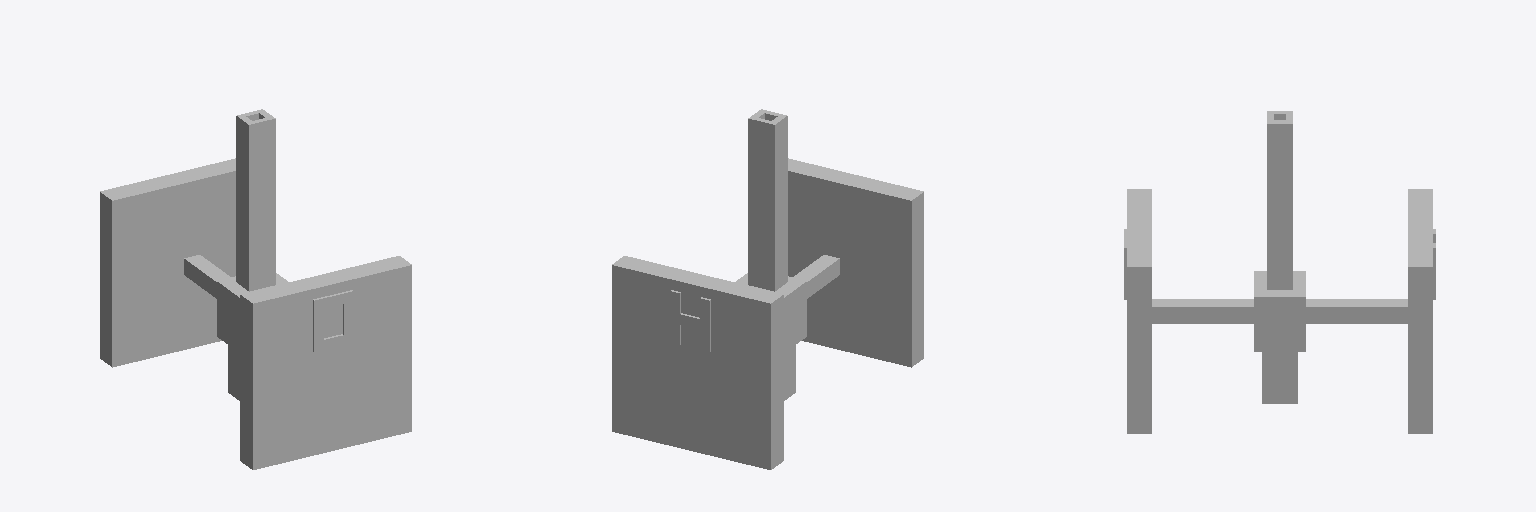
Rendered from fuel_cell.obj.
3 views of the same model, side by side, from view 1: azimuth 30°, elevation 25°; view 2: azimuth 150°, elevation 25°; view 3: azimuth 270°, elevation 25° (orthographic).
Visible parts, largest first — view 1: Cube_Cube.001; view 2: Cube_Cube.001; view 3: Cube_Cube.001.
Boxes of the visible parts, <box> form: Cube_Cube.001: <box>100,109,411,469</box>; Cube_Cube.001: <box>612,109,923,469</box>; Cube_Cube.001: <box>1124,111,1435,433</box>.
Bounding box in the file's own units: 0.6 × 1 × 1.02.